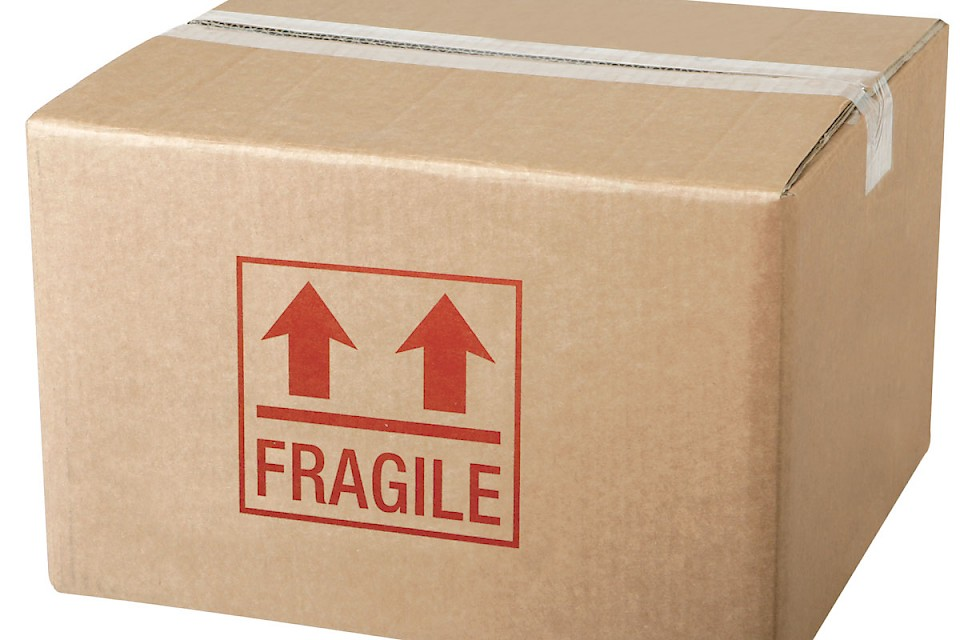stock: (25, 1, 943, 639)
